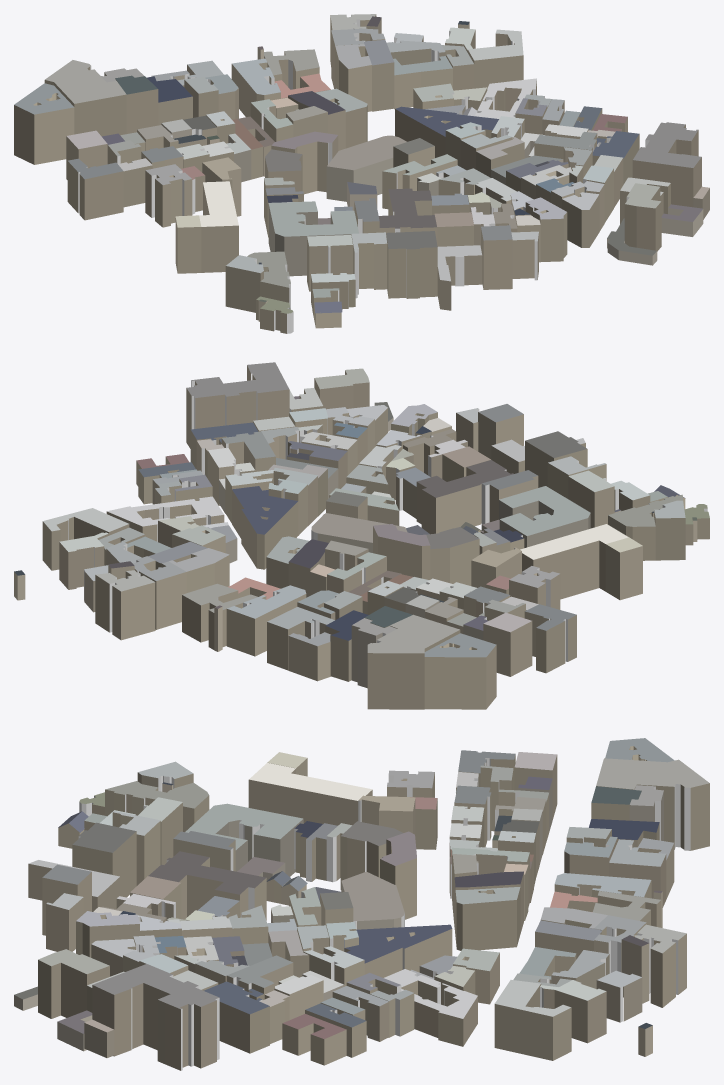
The picture shows the model from 3 angles, top to bottom: view 1: azimuth 30°, elevation 25°; view 2: azimuth 150°, elevation 25°; view 3: azimuth 270°, elevation 25°; orthographic projection. The views are drawn at different scales.
Parts seen in each view (by area): view 1: tuile; view 2: tuile; view 3: tuile.
Part boxes in pixels (x1,y1,x2,y2): tuile: (14,14,709,333); tuile: (14,362,709,709); tuile: (14,738,709,1070).
Size of the model in its own units: 276 by 33.12 by 290.
